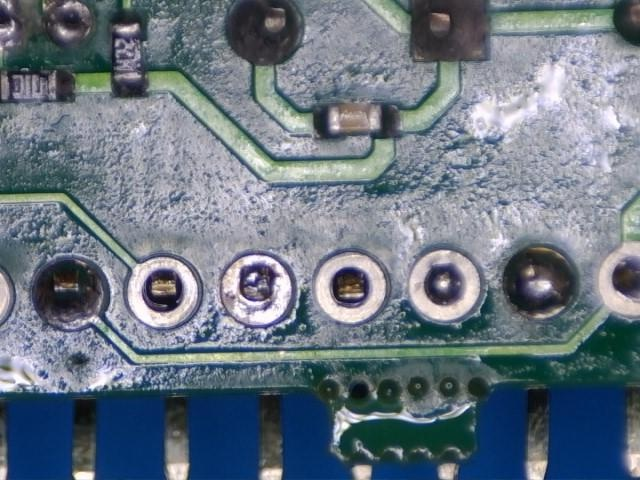pcb_defect: (504, 247, 576, 319), (220, 255, 292, 324), (409, 251, 480, 320)
